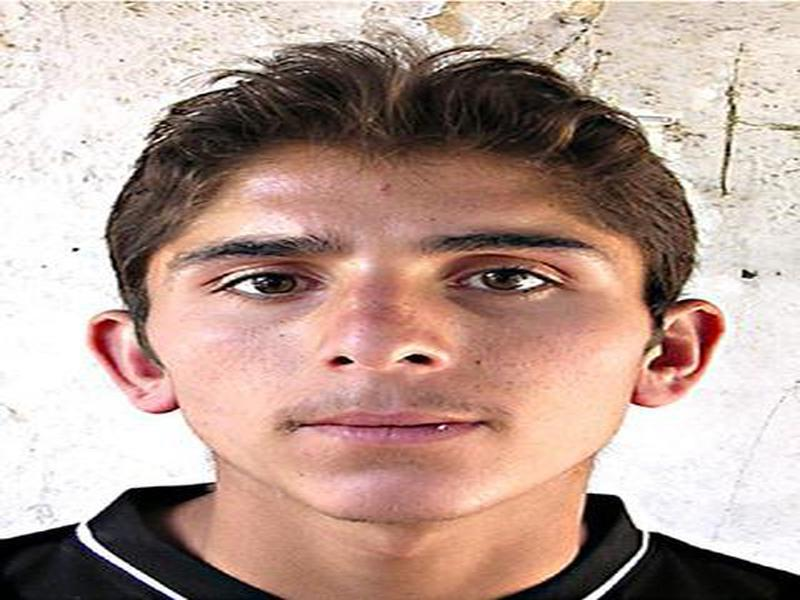without_mask: (142, 168, 651, 527)
